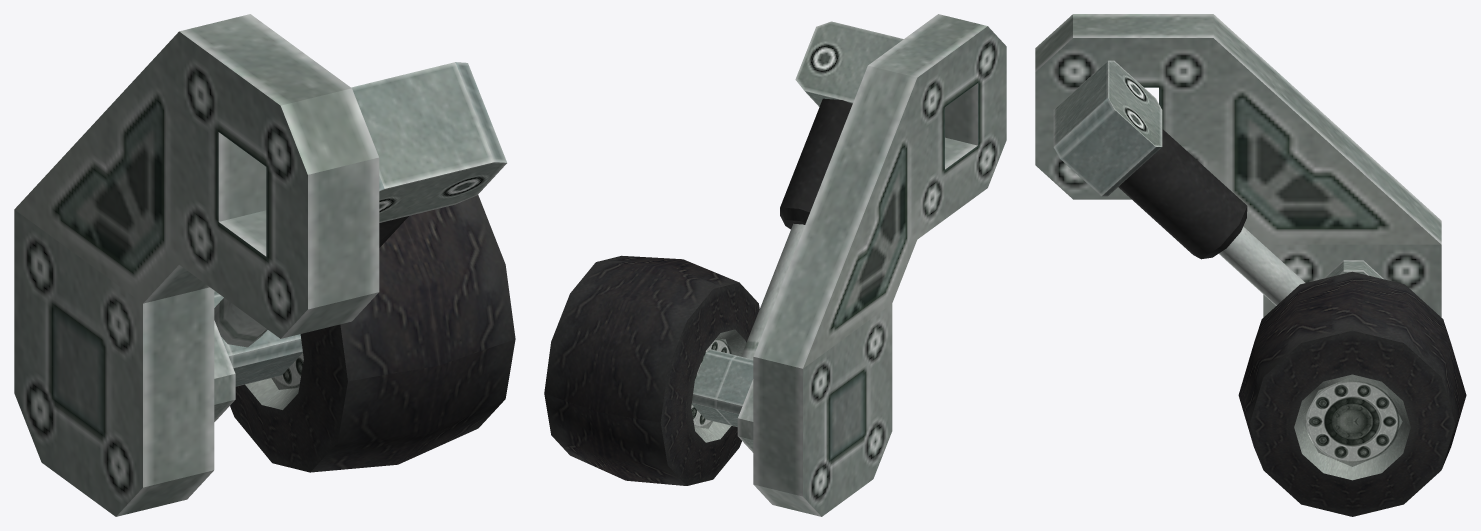
Rendered from Wheel_single_back_R.FBX.
3 renders of one model, left to right at view 1: azimuth 30°, elevation 25°; view 2: azimuth 150°, elevation 25°; view 3: azimuth 270°, elevation 25°, orthographic. The views are drawn at different scales.
Parts seen in each view (by area): view 1: Wheel_single_back_R; view 2: Wheel_single_back_R; view 3: Wheel_single_back_R.
Boxes of the visible parts, x1,y1,x2,y2 form: Wheel_single_back_R: (14, 14, 515, 516); Wheel_single_back_R: (544, 14, 1006, 516); Wheel_single_back_R: (1035, 14, 1466, 516).
Size of the model in its own units: 131 by 189 by 189.
